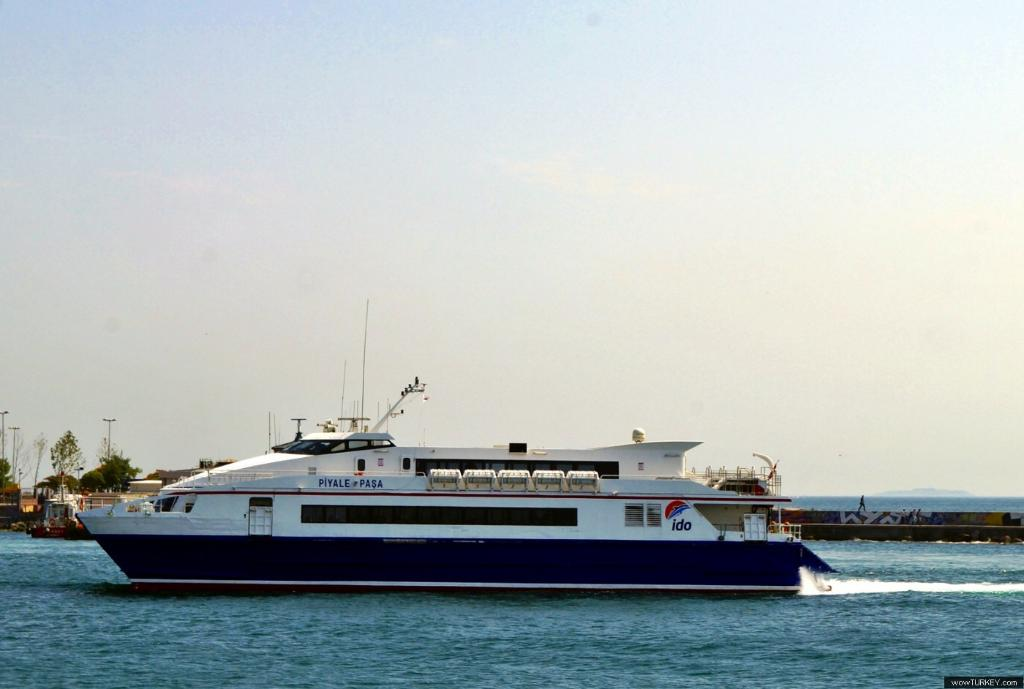PassengerShip: (71, 296, 841, 604)
